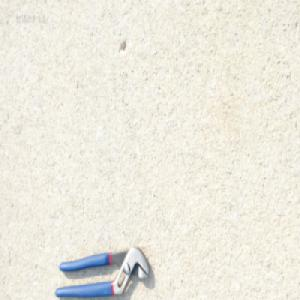Pliers: (53, 245, 151, 299)
